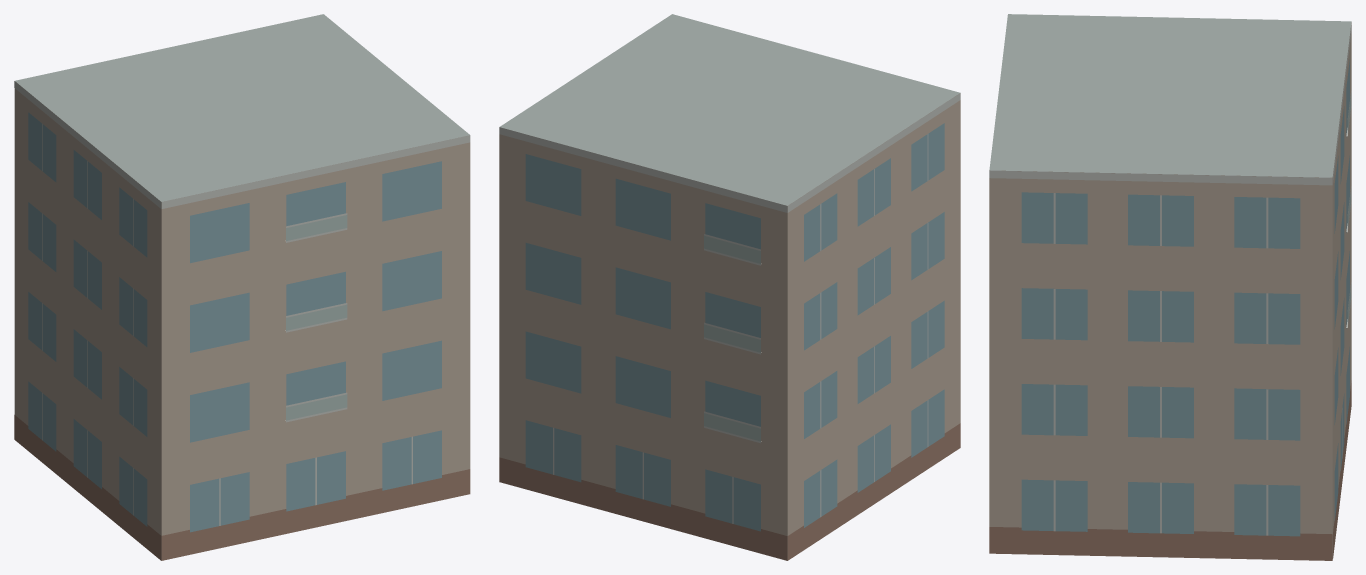
The model's file is survey-upis-33042612.glb.
3 views of the same model, side by side, from view 1: azimuth 30°, elevation 25°; view 2: azimuth 150°, elevation 25°; view 3: azimuth 270°, elevation 25° (orthographic). The views are drawn at different scales.
Visible parts, largest first — view 1: survey-upis-33042612.tmp; view 2: survey-upis-33042612.tmp; view 3: survey-upis-33042612.tmp.
Boxes of the visible parts, x1,y1,x2,y2 form: survey-upis-33042612.tmp: [14, 14, 470, 560]; survey-upis-33042612.tmp: [499, 14, 960, 560]; survey-upis-33042612.tmp: [989, 14, 1351, 560].
Bounding box in the file's own units: 11.15 × 12.15 × 10.42.
